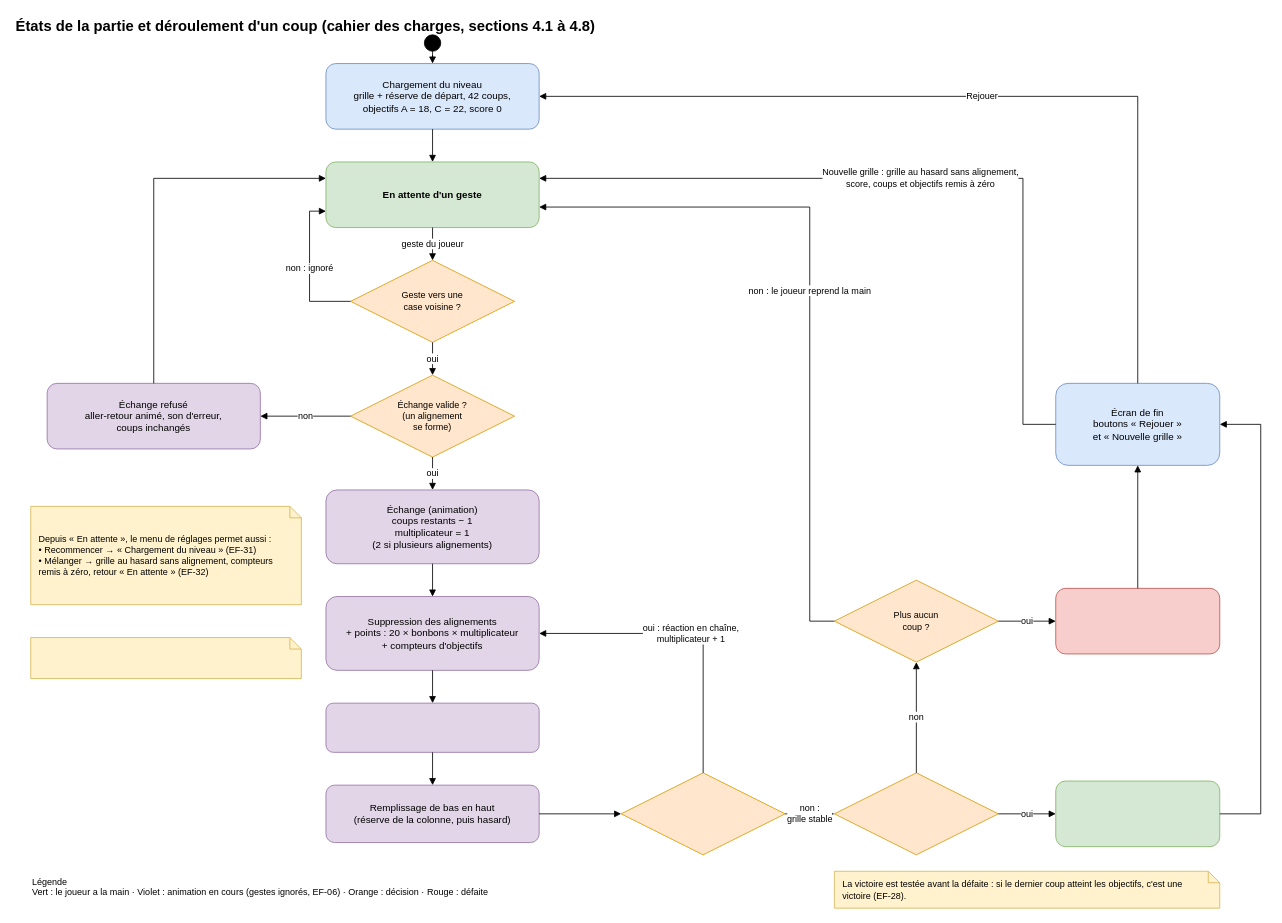
The diagram is 1282 pixels wide and 923 high, and some of its shapes have lost their labels. Each missing label, with the box of its shape:
Chaque bonbon supprimé compte une seule fois (EF-09).: (30, 637, 301, 679)
Chute des bonbons: (325, 702, 539, 752)
Défaite « Perdu ! »: (1055, 588, 1220, 654)
Nouveaux alignements ?: (620, 772, 785, 855)
Tous les objectifs atteints ?: (834, 772, 998, 855)
Victoire « Bravo ! »: (1055, 780, 1220, 847)
